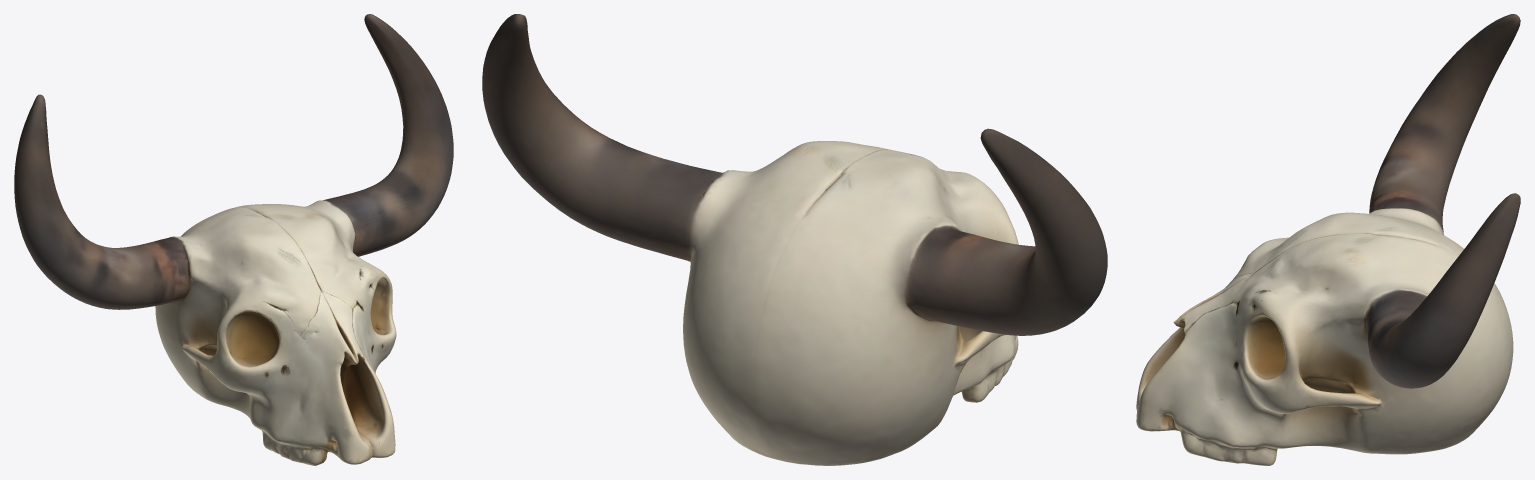
Rendered from cow_skull.glb.
The picture shows the model from 3 angles, left to right: view 1: azimuth 30°, elevation 25°; view 2: azimuth 150°, elevation 25°; view 3: azimuth 270°, elevation 25°; orthographic projection. The views are drawn at different scales.
Parts seen in each view (by area): view 1: Mesh; view 2: Mesh; view 3: Mesh.
Boxes of the visible parts, x1,y1,x2,y2 form: Mesh: (14, 14, 453, 465); Mesh: (482, 14, 1107, 465); Mesh: (1136, 14, 1520, 465).
Size of the model in its own units: 1.9 by 1.29 by 1.33.
Materials: 1 (1 with a texture image).
